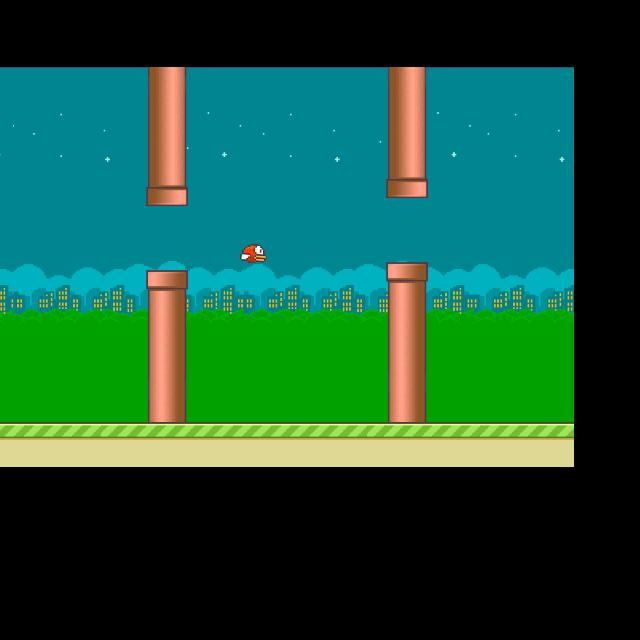bird: (241, 244, 266, 264)
pipedown: (385, 262, 427, 419), (145, 270, 188, 419)
pipeup: (145, 75, 187, 205), (385, 73, 427, 198)
